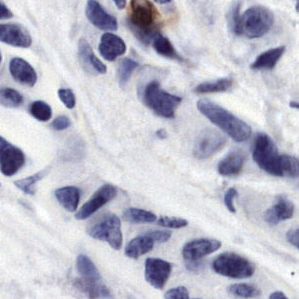Lymphocyte: (126, 1, 165, 35)
